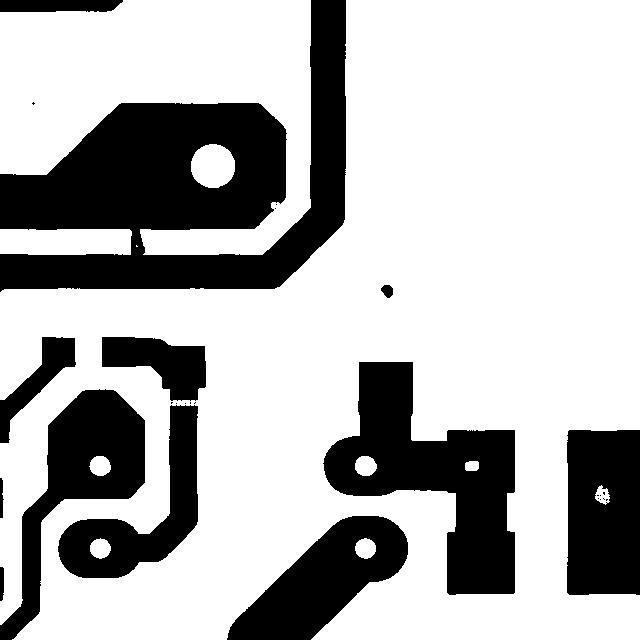copper: (371, 275, 402, 307)
mousebite: (261, 192, 289, 218)
open: (154, 390, 211, 415)
pin-hole: (585, 475, 619, 514), (455, 451, 488, 480)
short: (121, 214, 154, 266)
